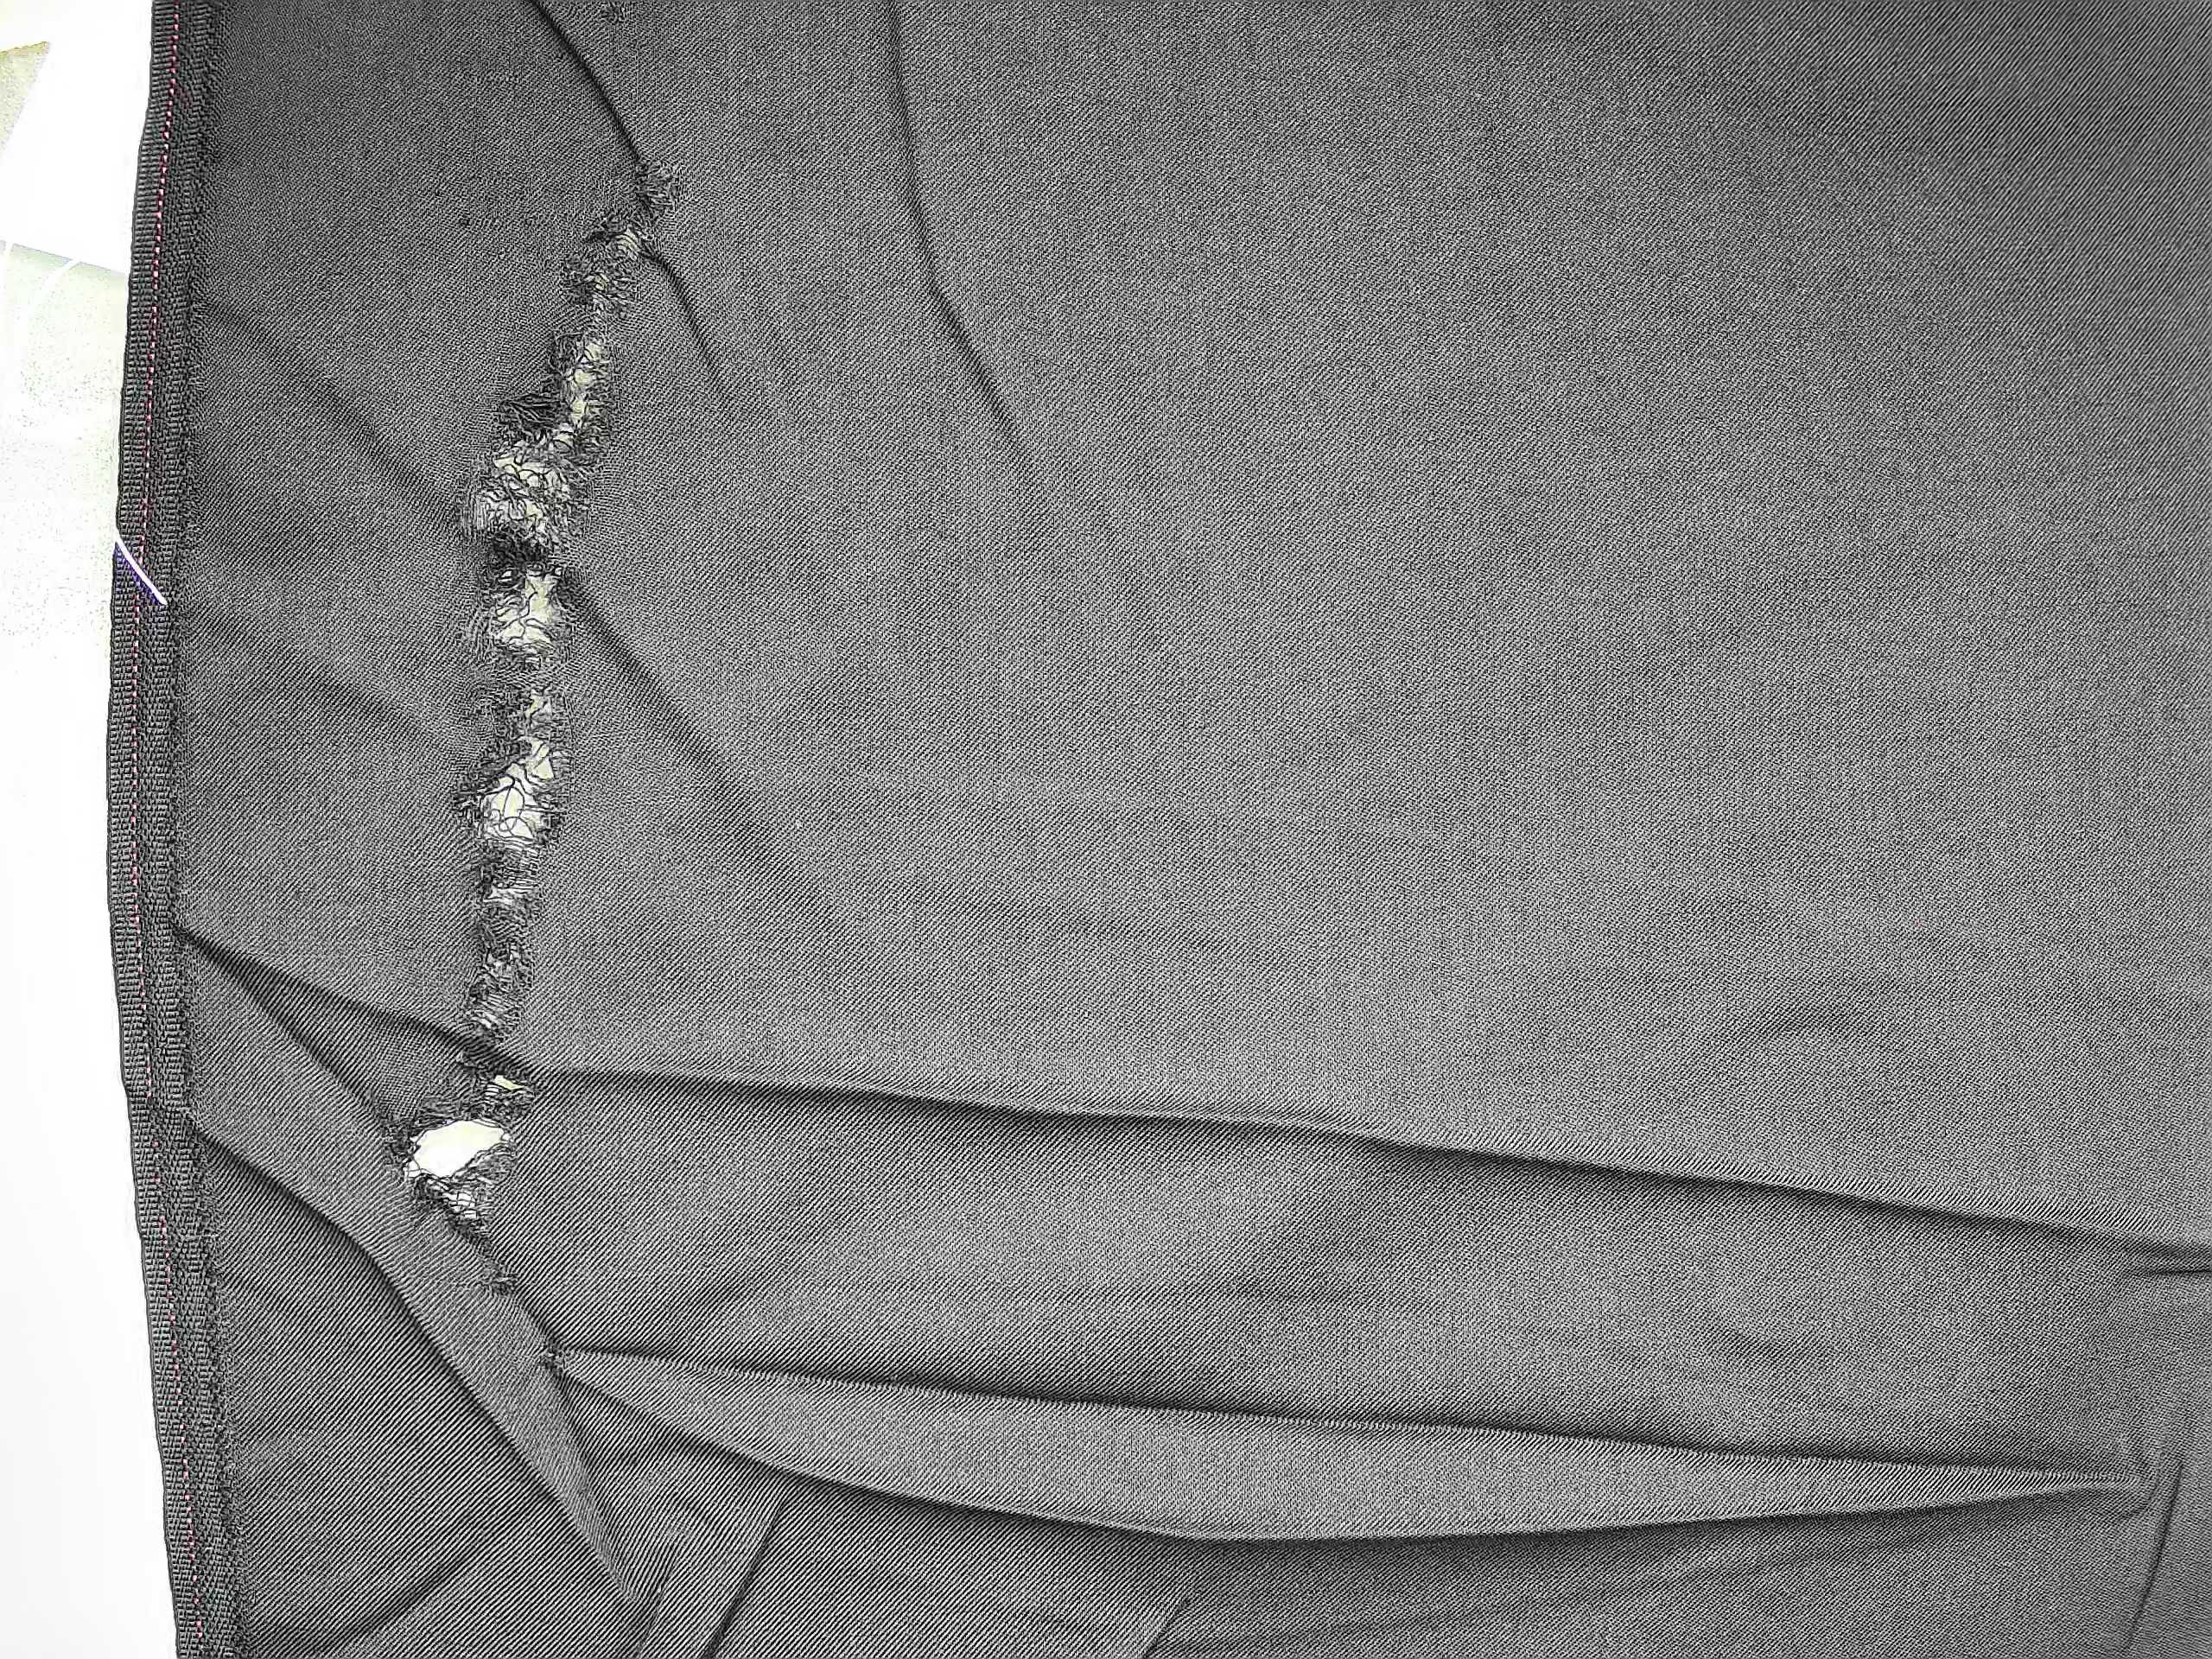rubbing-hole: (374, 141, 714, 1375)
